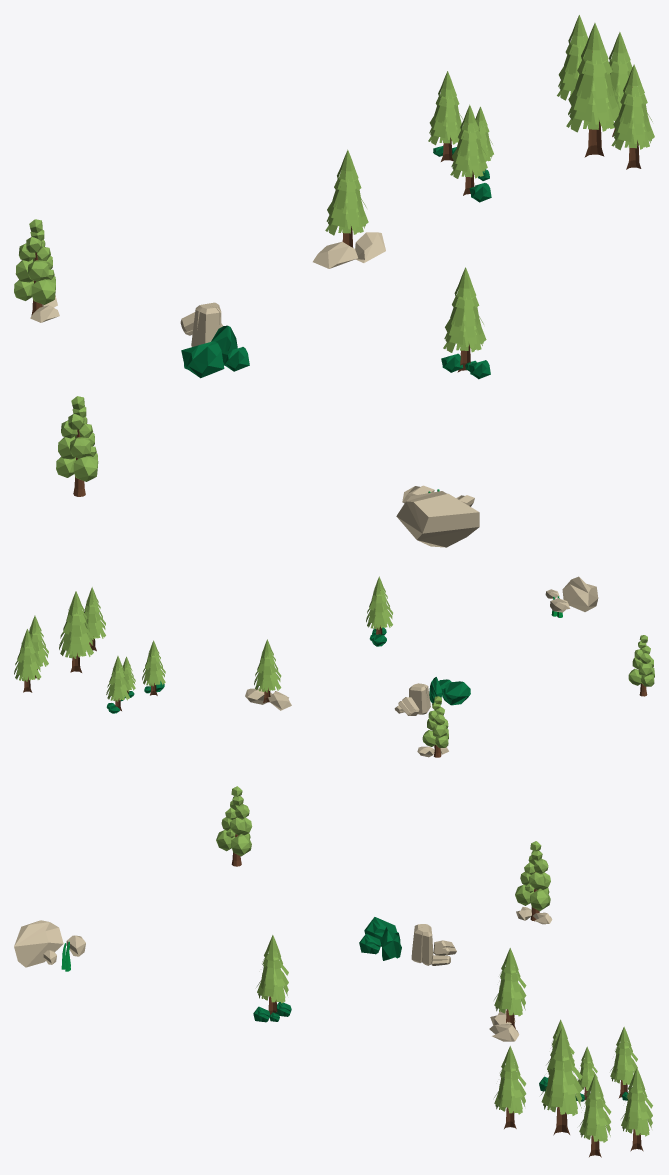
Rendered from Green_6.glb.
The picture shows the model from 3 angles, top to bottom: view 1: azimuth 30°, elevation 25°; view 2: azimuth 150°, elevation 25°; view 3: azimuth 270°, elevation 25°; orthographic projection. The views are drawn at different scales.
Parts seen in each view (by area): view 1: polySurface14260; view 2: polySurface14260; view 3: polySurface14260.
Boxes of the visible parts, x1,y1,x2,y2 form: polySurface14260: (14, 15, 654, 547); polySurface14260: (14, 576, 654, 757); polySurface14260: (14, 786, 652, 1157).
Bounding box in the file's own units: 39.41 × 7.38 × 34.31.
